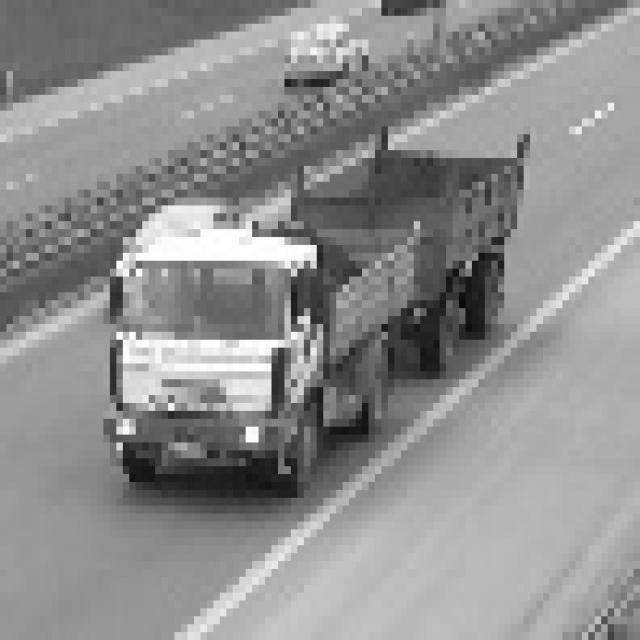truck: (97, 103, 524, 490)
